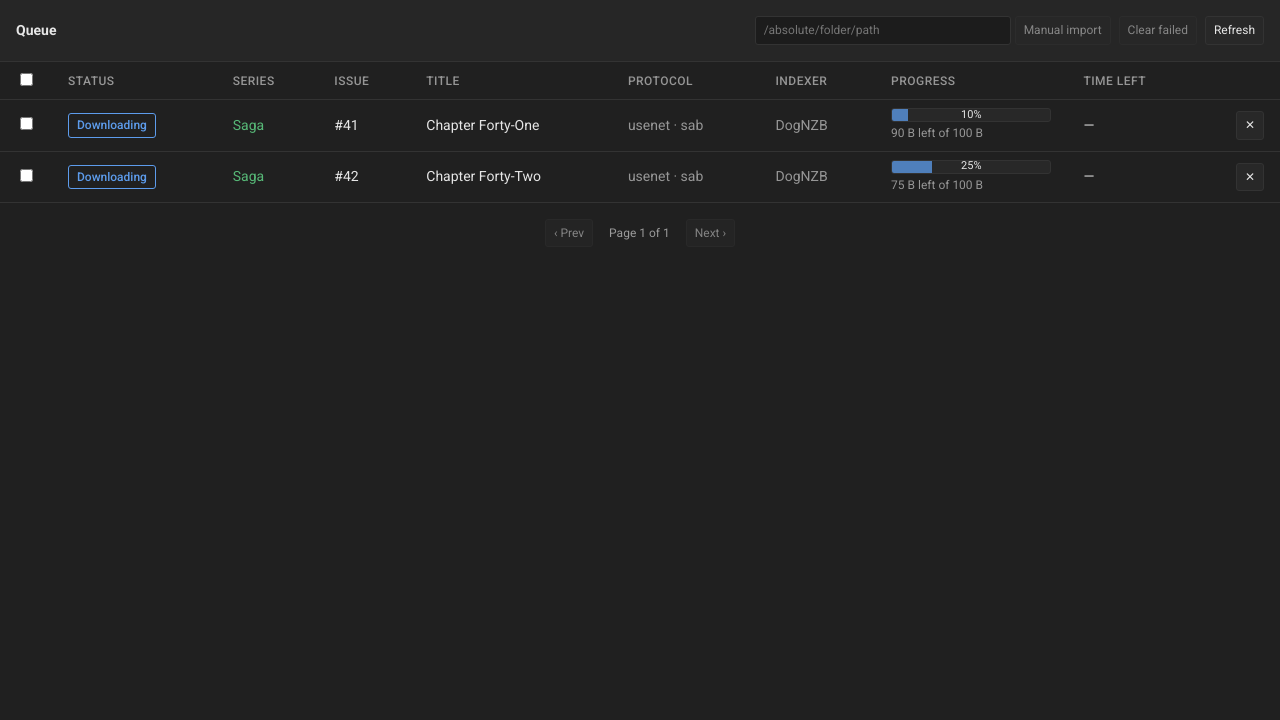
FRG-UI-006: selection and bulk cleanup › FRG-UI-006 — a row the server refuses is reported by name and stays listed and selected
Check: the row with test id "queue-row-900" is shown, box [0,100,1279,151]
What coordinates should you click on to do the following:
click the checkbox named "Select all queue items"
I would click on:
 (26, 80)
Its box is [20,73,33,86].
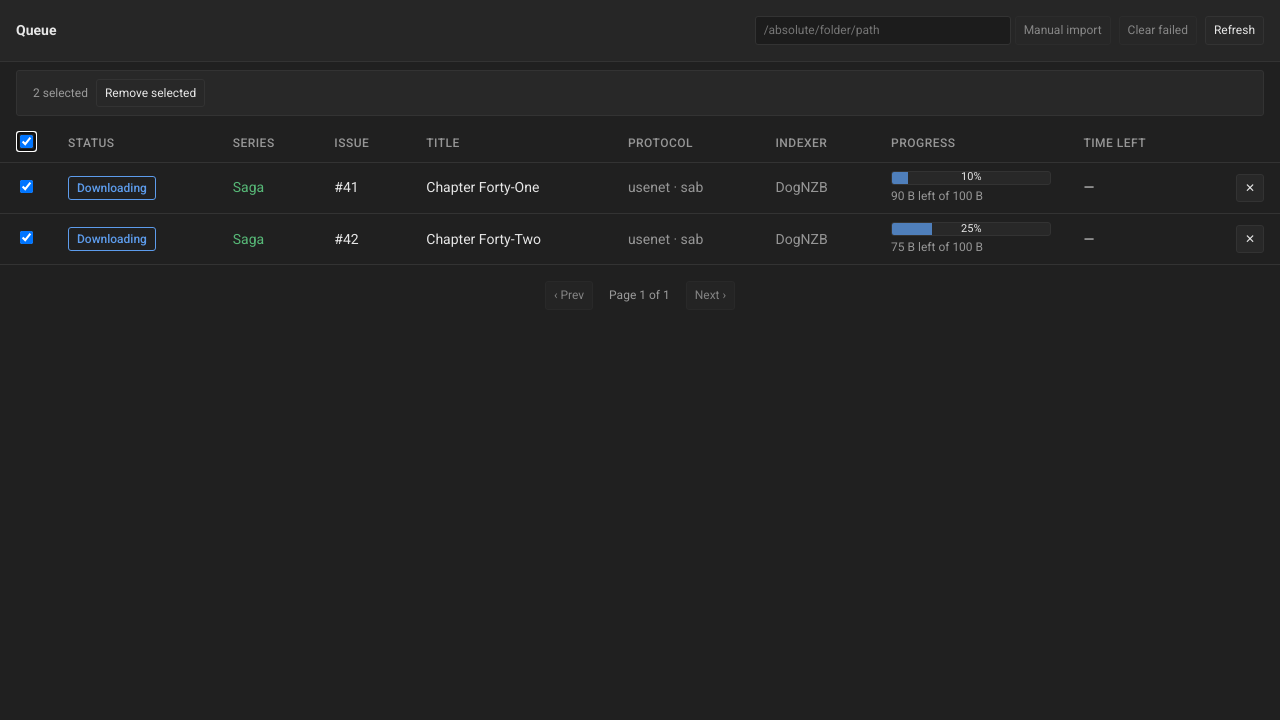
What coordinates should you click on to do the following:
click the button "Remove selected"
I would click on:
 (151, 93)
Its box is [96,79,205,107].
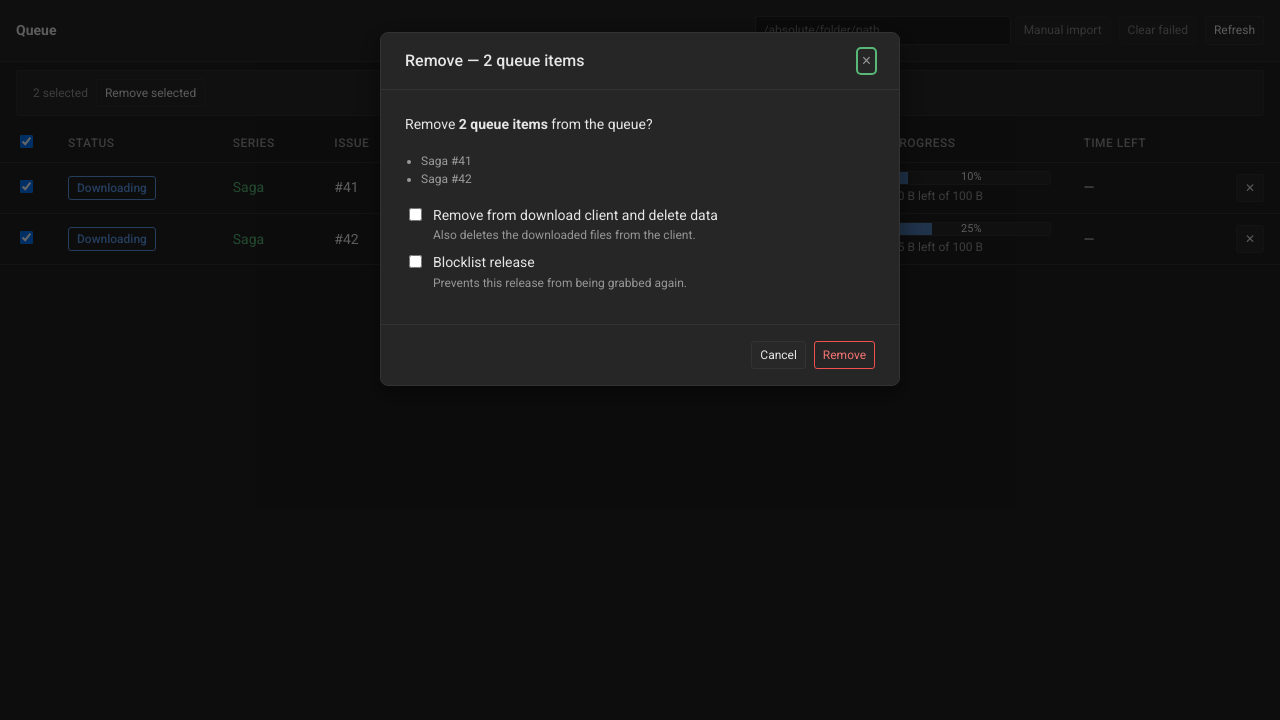
What coordinates should you click on to do the following:
click the button "Remove"
I would click on:
 (844, 355)
Its box is [814,341,875,370].
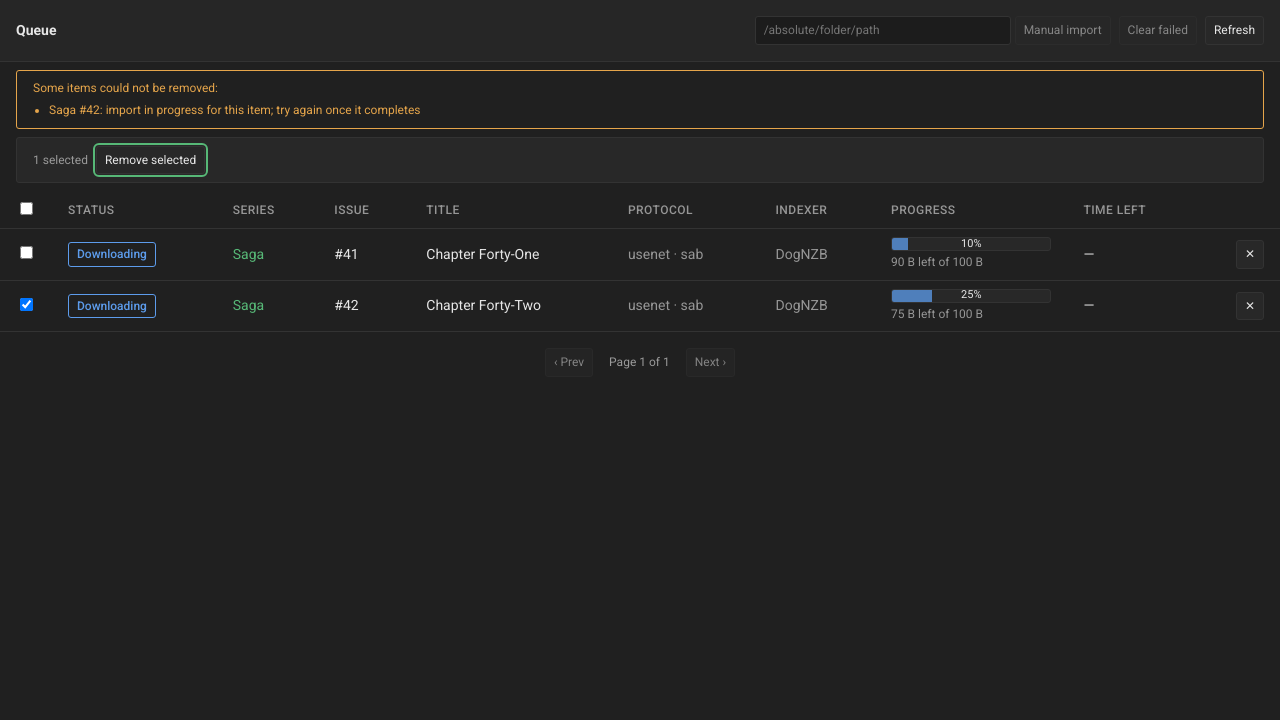
Check: the row with test id "queue-row-901" is shown, box [0,280,1279,332]
Check: the text with test id "queue-selection-count" reads "1 selected", box [33,151,88,169]
